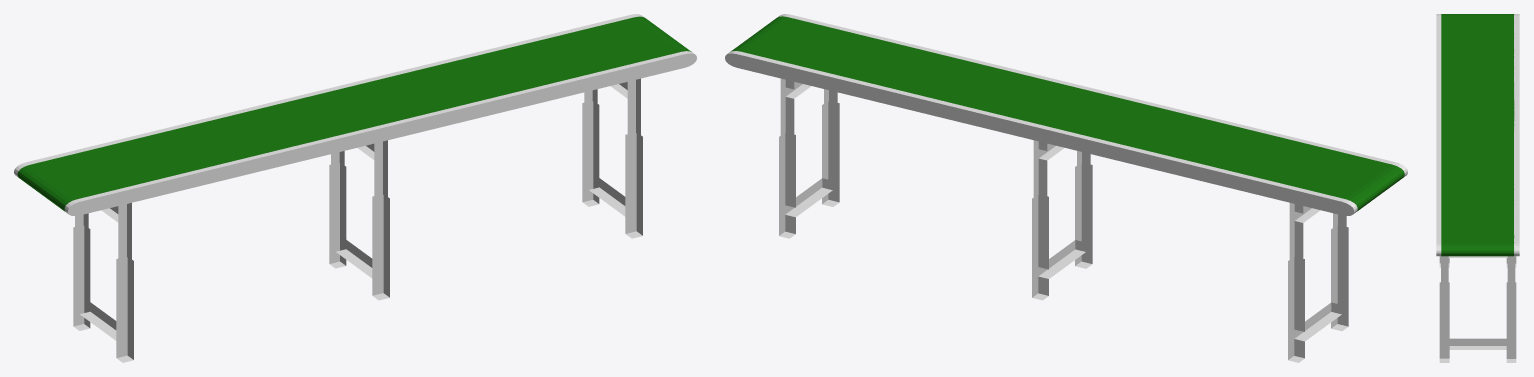
Rendered from sumitomo-mld2-conveyor.glb.
3 renders of one model, left to right at view 1: azimuth 30°, elevation 25°; view 2: azimuth 150°, elevation 25°; view 3: azimuth 270°, elevation 25°, orthographic. The views are drawn at different scales.
Visible parts, largest first — view 1: Cube.010, Plane.059, Plane.062, Plane.060, Plane.057, Plane.061, Plane.058; view 2: Cube.010, Plane.062, Plane.059, Plane.060, Plane.058, Plane.061, Plane.057; view 3: Cube.010, Plane.060, Plane.057.
Boxes of the visible parts, x1=… form: Cube.010: x1=14, y1=14, x2=696, y2=215; Plane.059: x1=73, y1=206, x2=118, y2=340; Plane.062: x1=329, y1=143, x2=374, y2=278; Plane.060: x1=582, y1=82, x2=627, y2=216; Plane.057: x1=625, y1=78, x2=642, y2=238; Plane.061: x1=372, y1=140, x2=389, y2=300; Plane.058: x1=116, y1=203, x2=133, y2=362; Cube.010: x1=725, y1=14, x2=1407, y2=215; Plane.062: x1=1032, y1=140, x2=1085, y2=300; Plane.059: x1=1288, y1=203, x2=1341, y2=362; Plane.060: x1=779, y1=78, x2=832, y2=238; Plane.058: x1=1331, y1=213, x2=1348, y2=331; Plane.061: x1=1075, y1=151, x2=1092, y2=268; Plane.057: x1=822, y1=89, x2=839, y2=206; Cube.010: x1=1436, y1=14, x2=1519, y2=256; Plane.060: x1=1448, y1=256, x2=1516, y2=362; Plane.057: x1=1439, y1=256, x2=1449, y2=362.
Bounding box in the file's own units: 10 × 2.64 × 1.49.
